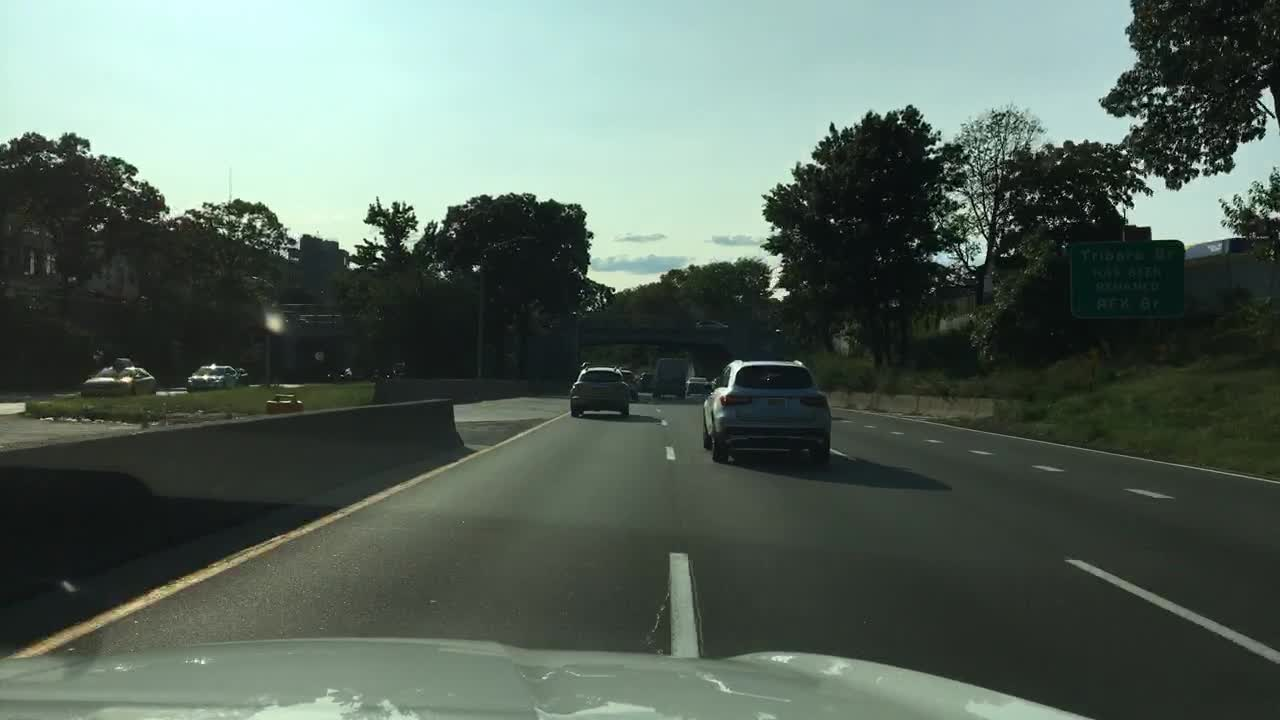car: (699, 359, 837, 465), (567, 360, 628, 419), (81, 355, 155, 400), (184, 361, 237, 391), (626, 370, 640, 404), (686, 374, 707, 395), (230, 368, 252, 383), (371, 368, 396, 381), (326, 363, 351, 376), (640, 371, 655, 391)
traffic sign: (1064, 234, 1184, 320), (693, 318, 726, 329)
truck: (656, 353, 690, 396)
